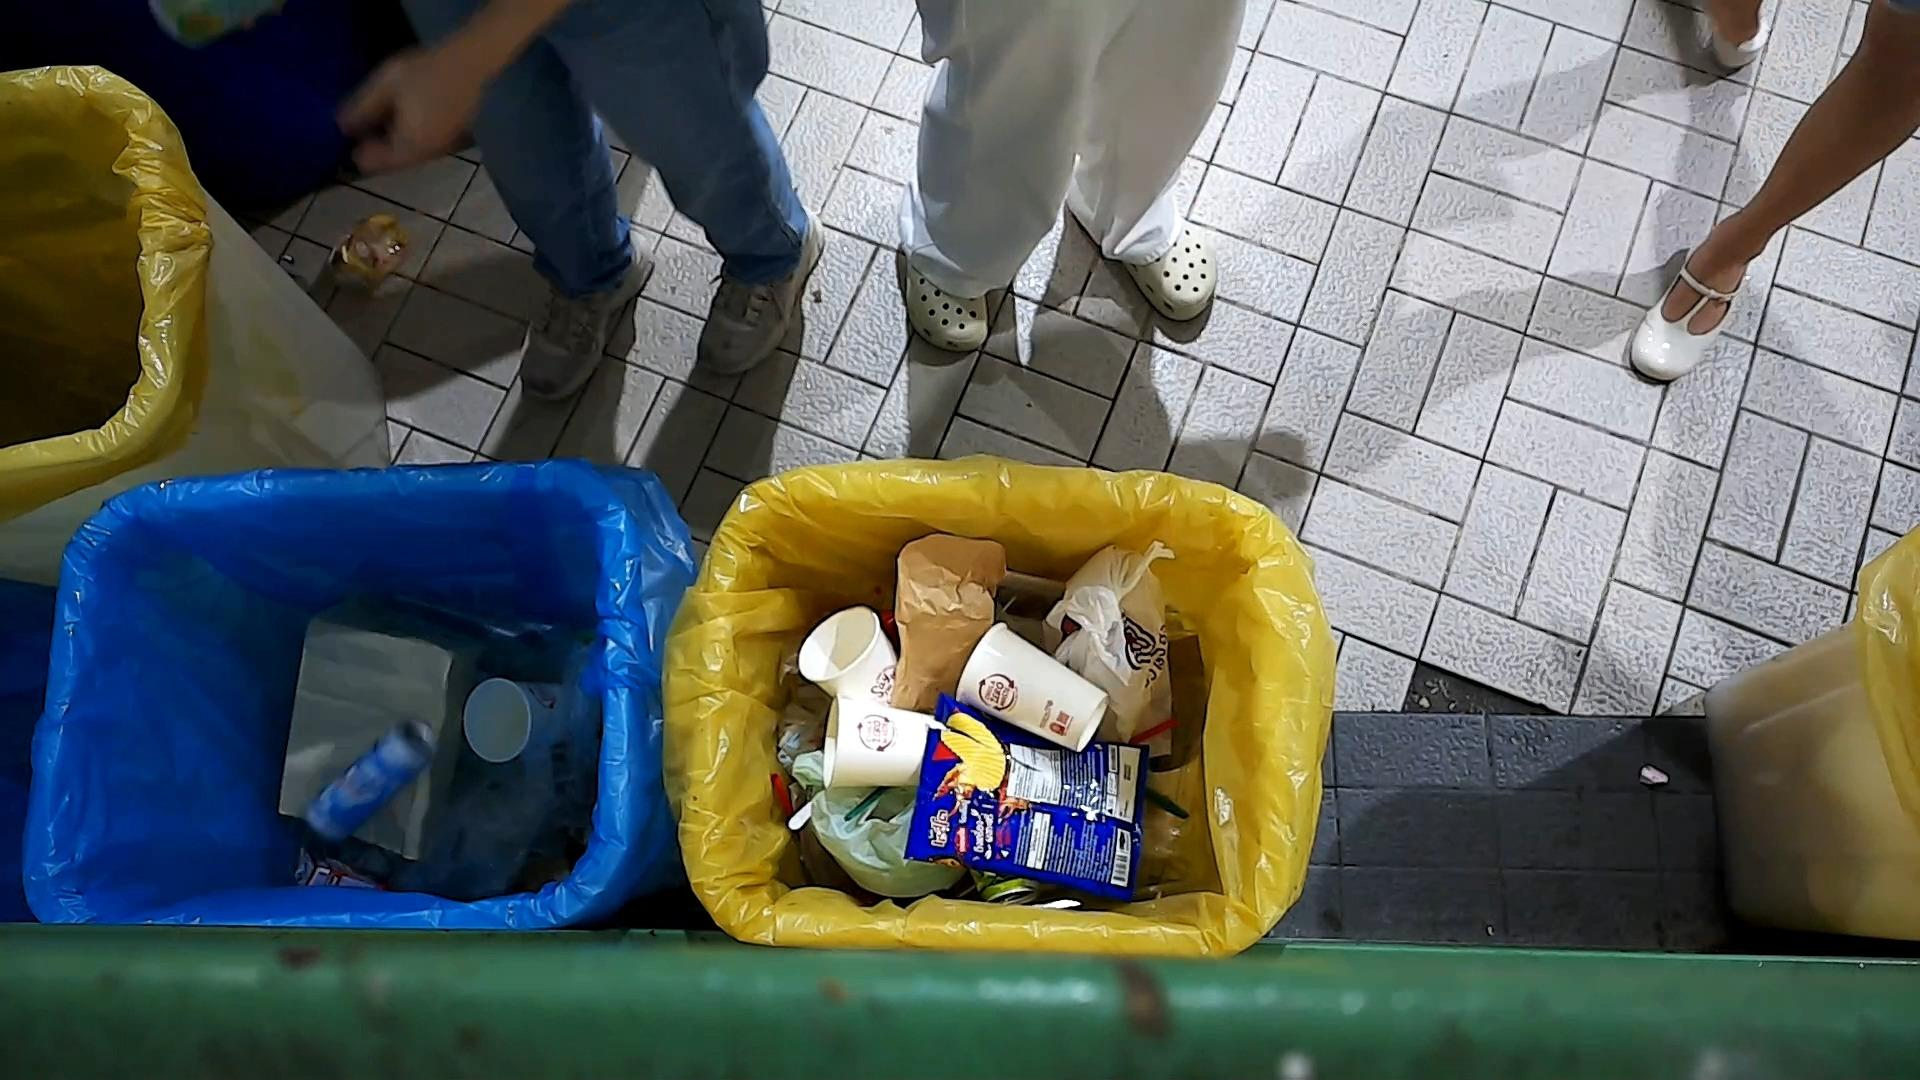can: (302, 713, 443, 847)
filled plastic bag: (1038, 538, 1179, 765), (789, 745, 973, 901)
milk carton: (289, 843, 394, 891)
paper bag: (269, 589, 502, 860), (889, 531, 1011, 717)
plastic bag: (398, 735, 570, 905)
snack packaging: (901, 688, 1151, 903)
zero waste cup: (955, 617, 1114, 758), (815, 691, 943, 794), (462, 674, 585, 765), (795, 603, 899, 707)
